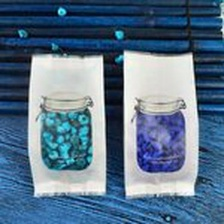snack: (19, 43, 113, 204), (115, 43, 207, 202)
